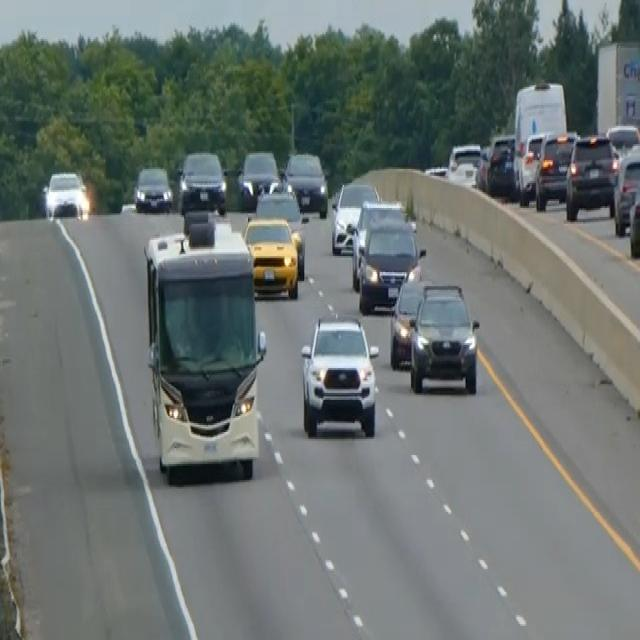bus: (141, 213, 268, 482)
car: (299, 311, 379, 439), (408, 279, 480, 395), (357, 215, 424, 313), (350, 197, 405, 288), (242, 213, 300, 299), (254, 187, 308, 277), (564, 132, 618, 220), (388, 274, 427, 370), (330, 178, 379, 254), (534, 130, 578, 210), (177, 148, 227, 215), (283, 149, 328, 217), (517, 128, 554, 203), (237, 148, 280, 205), (612, 148, 638, 235), (42, 169, 87, 219), (133, 162, 173, 213), (486, 134, 516, 196), (447, 140, 481, 185), (627, 180, 639, 256)
